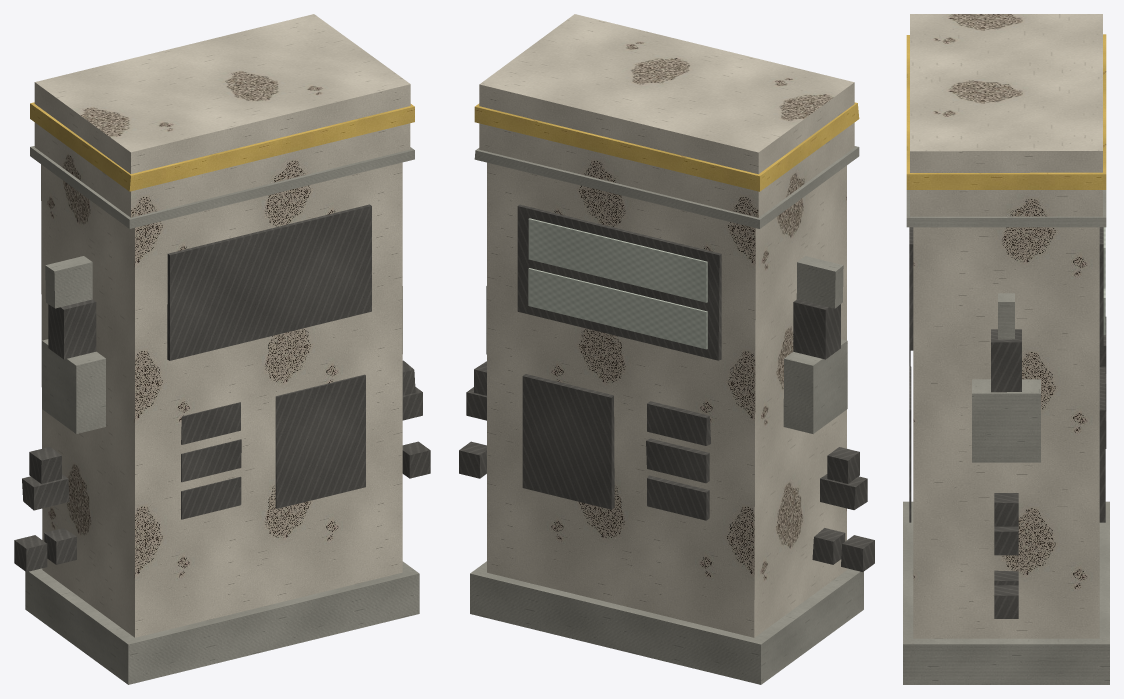
The model's file is pump_v2.glb.
3 renders of one model, left to right at view 1: azimuth 30°, elevation 25°; view 2: azimuth 150°, elevation 25°; view 3: azimuth 270°, elevation 25°, orthographic.
Visible parts, largest first — view 1: Variant_pump_2; view 2: Variant_pump_2; view 3: Variant_pump_2.
Part boxes in pixels (box(x1,y1,x2,y2)): Variant_pump_2: box(14, 14, 430, 684); Variant_pump_2: box(459, 14, 874, 684); Variant_pump_2: box(903, 14, 1109, 684).
Bounding box in the file's own units: 1.36 × 1.7 × 0.6.
5 materials, 5 textured.
